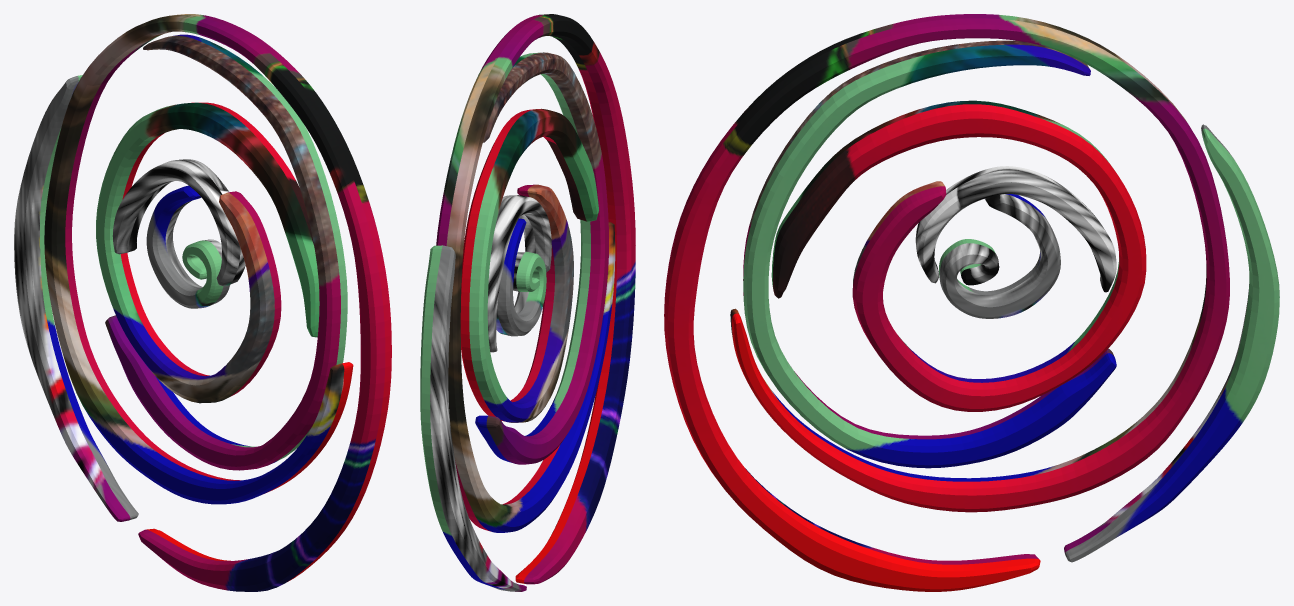
File: onda.gltf
3 renders of one model, left to right at view 1: azimuth 30°, elevation 25°; view 2: azimuth 150°, elevation 25°; view 3: azimuth 270°, elevation 25°, orthographic. The views are drawn at different scales.
Parts seen in each view (by area): view 1: Plane.005; view 2: Plane.005; view 3: Plane.005.
Part boxes in pixels (x1,y1,x2,y2): Plane.005: [14, 14, 391, 591]; Plane.005: [420, 14, 635, 591]; Plane.005: [664, 14, 1279, 591].
Size of the model in its own units: 1.82 by 8.35 by 7.9.
Materials: 1 (1 with a texture image).
